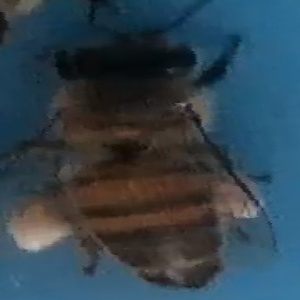bee: (15, 36, 292, 293)
